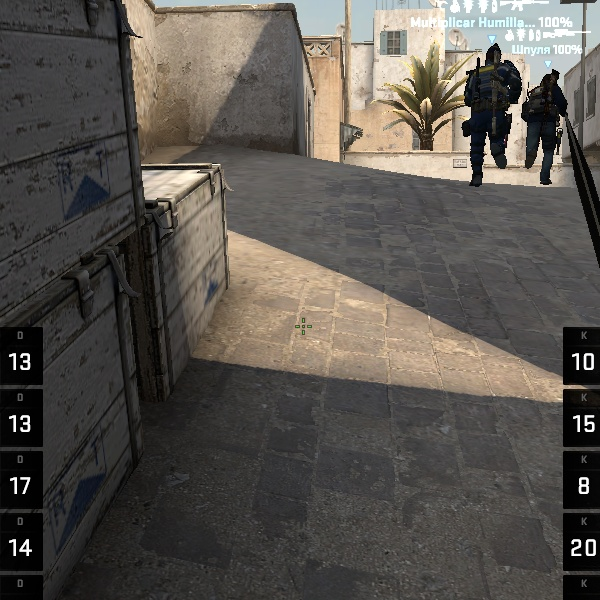ct_body: (462, 44, 519, 188), (519, 65, 582, 187)
ct_head: (483, 44, 504, 64), (542, 72, 556, 87)
